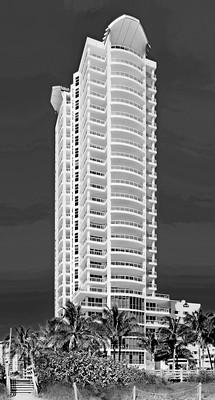building: (48, 10, 161, 345)
